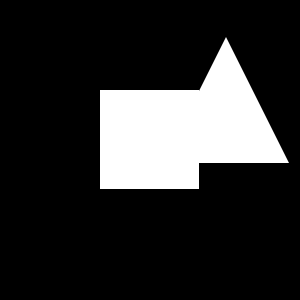circle: (100, 90, 199, 189)
triangle: (163, 37, 289, 163)
